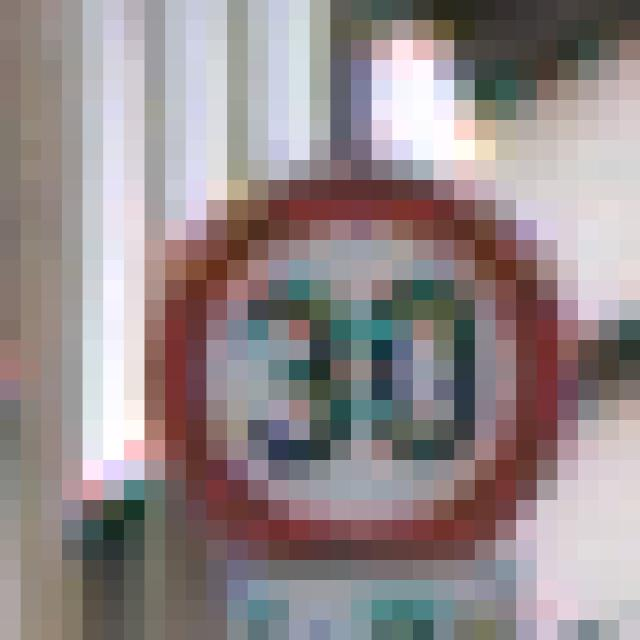Speed Limit -30-: (113, 110, 506, 510)
